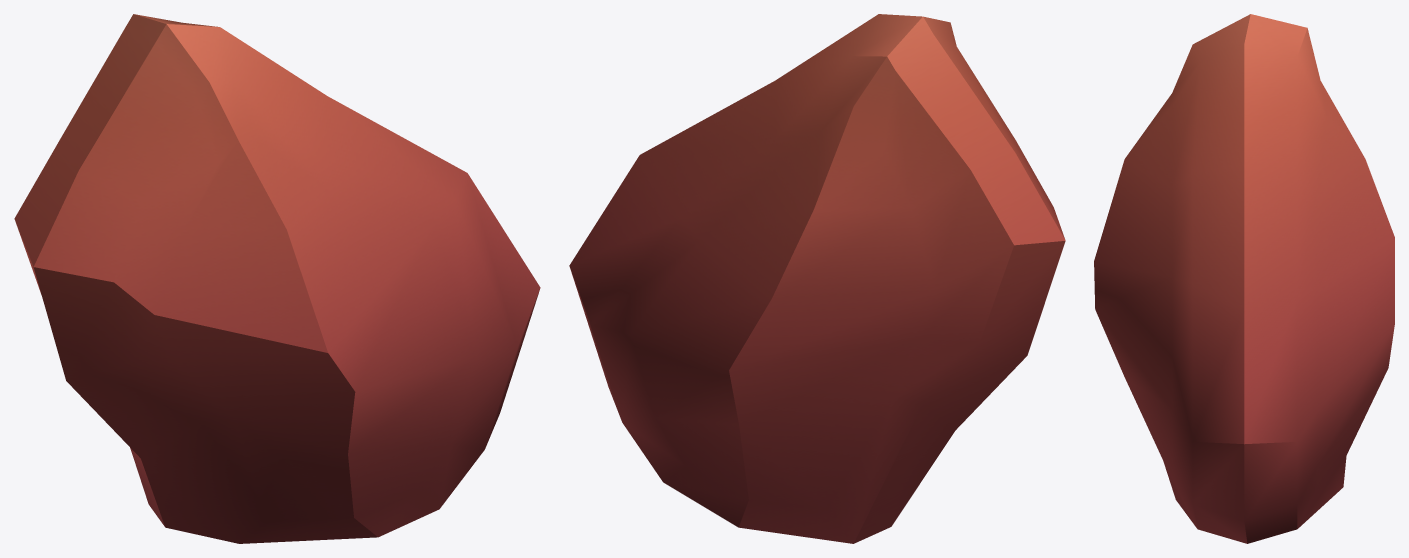
Rendered from Rocks_V02.fbx.
3 views of the same model, side by side, from view 1: azimuth 30°, elevation 25°; view 2: azimuth 150°, elevation 25°; view 3: azimuth 270°, elevation 25° (orthographic). The views are drawn at different scales.
Visible parts, largest first — view 1: SM_Rock_V02_C01_01; view 2: SM_Rock_V02_C01_01; view 3: SM_Rock_V02_C01_01.
Boxes of the visible parts, x1,y1,x2,y2 form: SM_Rock_V02_C01_01: (14,14,540,543); SM_Rock_V02_C01_01: (569,14,1065,543); SM_Rock_V02_C01_01: (1094,14,1394,543).
Size of the model in its own units: 344 by 334 by 217.
